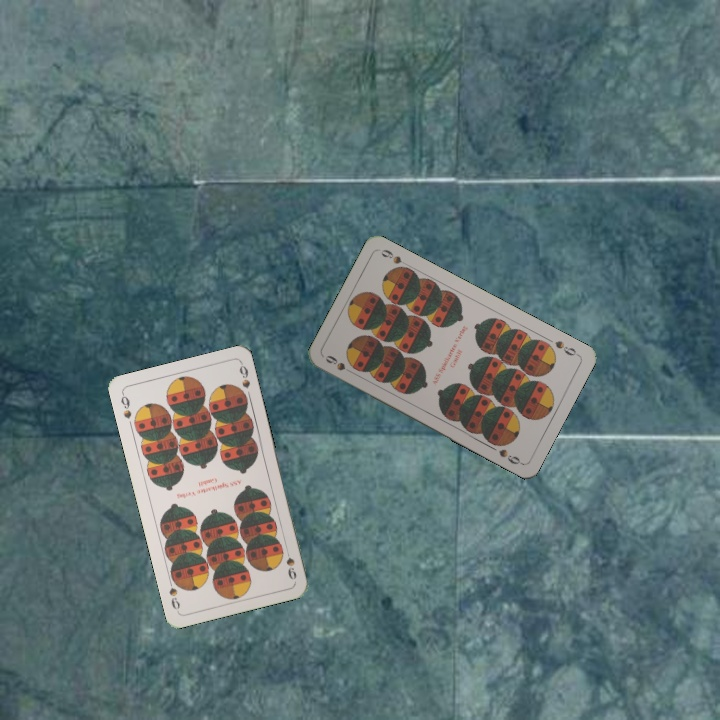S9: (321, 351, 358, 377), (551, 336, 582, 359), (282, 543, 299, 582), (117, 389, 134, 421)
